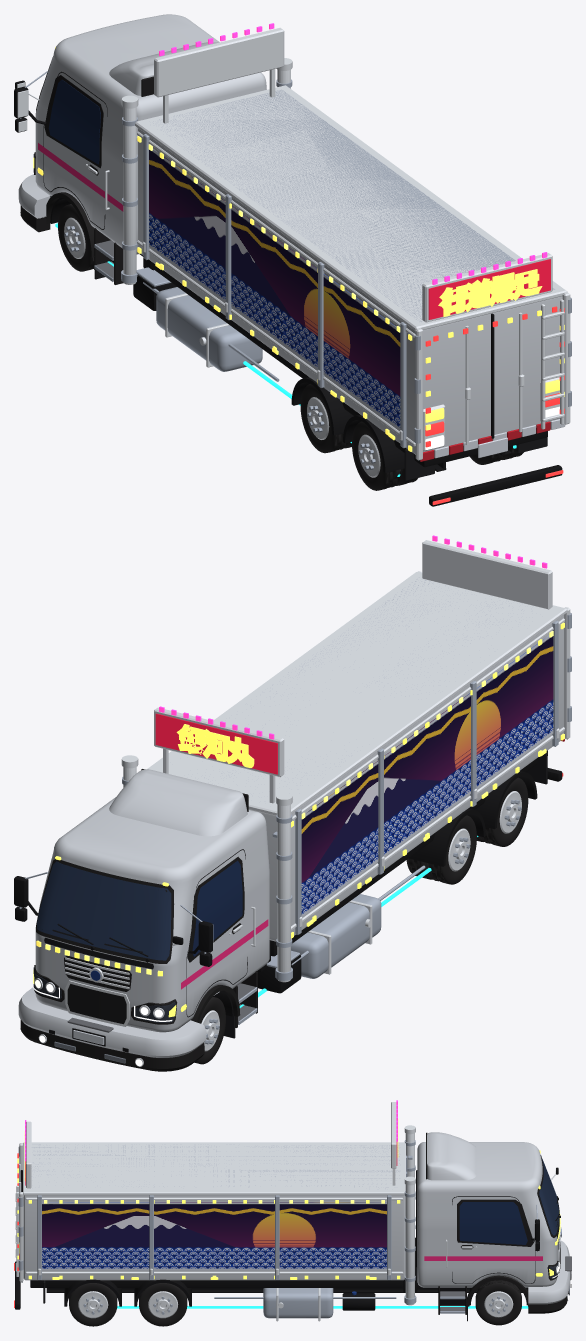
Rendered from dekotora_truck_base.glb.
The picture shows the model from 3 angles, top to bottom: view 1: azimuth 30°, elevation 25°; view 2: azimuth 150°, elevation 25°; view 3: azimuth 270°, elevation 25°; orthographic projection. The views are drawn at different scales.
Visible parts, largest first — view 1: truck_chrome, truck_paint_white_panel, truck_steel, truck_mural, truck_plastic_black, truck_lamp_amber, truck_plastic_trim, truck_glass, wheel_r_L_1.5_1.06, wheel_r_L_3.0_1.06, truck_andon_panel, wheel_f_L (+6 smaller); view 2: truck_chrome, truck_paint_white_panel, truck_mural, truck_glass_wind, truck_steel, truck_plastic_black, truck_plastic_trim, truck_lamp_amber, truck_glass, truck_andon_panel, wheel_r_L_3.0_1.06, wheel_r_L_1.5_1.06 (+6 smaller); view 3: truck_chrome, truck_mural, truck_paint_white_panel, truck_plastic_black, truck_steel, truck_glass, truck_plastic_trim, wheel_f_R, wheel_r_R_1.5_1.06, wheel_r_R_3.0_1.06, truck_lamp_amber, truck_glass_wind (+3 smaller).
Part boxes in pixels (bbox=[...]): truck_chrome: bbox=[17, 27, 570, 460]; truck_paint_white_panel: bbox=[18, 14, 562, 454]; truck_steel: bbox=[20, 71, 571, 448]; truck_mural: bbox=[149, 149, 400, 430]; truck_plastic_black: bbox=[14, 71, 562, 506]; truck_lamp_amber: bbox=[33, 47, 564, 451]; truck_plastic_trim: bbox=[20, 57, 153, 284]; truck_glass: bbox=[48, 79, 100, 164]; wheel_r_L_1.5_1.06: bbox=[352, 421, 402, 490]; wheel_r_L_3.0_1.06: bbox=[300, 384, 347, 453]; truck_andon_panel: bbox=[428, 259, 550, 319]; wheel_f_L: bbox=[58, 204, 93, 271]; truck_chrome: bbox=[28, 540, 570, 1066]; truck_paint_white_panel: bbox=[18, 615, 563, 1057]; truck_mural: bbox=[301, 635, 553, 916]; truck_glass_wind: bbox=[37, 861, 171, 960]; truck_steel: bbox=[19, 577, 571, 1024]; truck_plastic_black: bbox=[14, 750, 562, 1052]; truck_plastic_trim: bbox=[20, 769, 257, 1071]; truck_lamp_amber: bbox=[33, 622, 564, 1017]; truck_glass: bbox=[192, 860, 242, 956]; truck_andon_panel: bbox=[155, 713, 277, 774]; wheel_r_L_3.0_1.06: bbox=[426, 815, 476, 884]; wheel_r_L_1.5_1.06: bbox=[481, 777, 528, 846]; truck_chrome: bbox=[15, 1102, 568, 1321]; truck_mural: bbox=[42, 1202, 386, 1270]; truck_paint_white_panel: bbox=[23, 1132, 570, 1304]; truck_plastic_black: bbox=[15, 1167, 571, 1310]; truck_steel: bbox=[18, 1140, 537, 1318]; truck_glass: bbox=[459, 1202, 527, 1244]; truck_plastic_trim: bbox=[426, 1132, 568, 1314]; wheel_f_R: bbox=[475, 1280, 521, 1325]; wheel_r_R_1.5_1.06: bbox=[69, 1283, 117, 1326]; wheel_r_R_3.0_1.06: bbox=[139, 1283, 187, 1326]; truck_lamp_amber: bbox=[17, 1119, 560, 1279]; truck_glass_wind: bbox=[539, 1155, 559, 1235].
Bounding box in the file's own units: 3.32 × 4.35 × 11.97.
26 materials, 9 textured.
